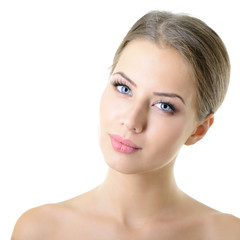teen: (93, 23, 210, 183)
